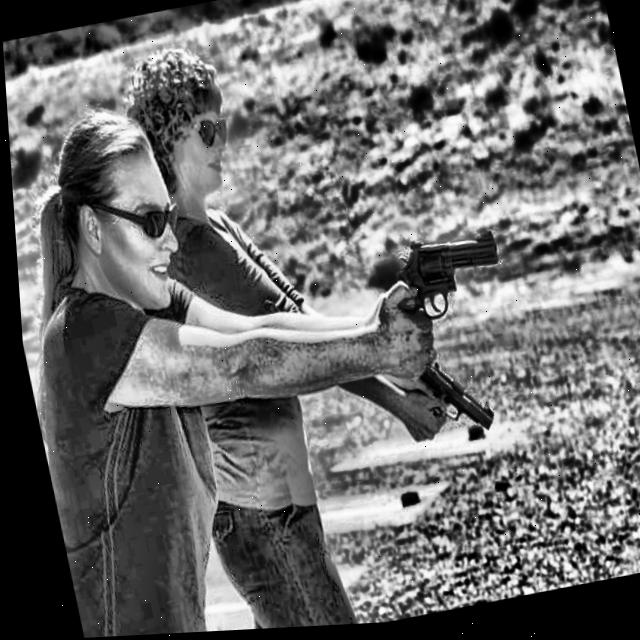pistol: (369, 211, 525, 342)
